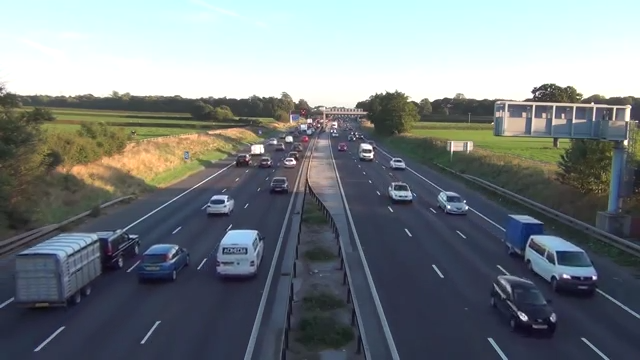car: (486, 268, 560, 338), (80, 222, 147, 274), (132, 238, 196, 287), (199, 190, 241, 224), (432, 186, 473, 217), (382, 178, 416, 205), (265, 172, 292, 198), (385, 151, 409, 171), (233, 150, 251, 167), (279, 154, 299, 168), (257, 154, 273, 167), (335, 140, 349, 153)
van: (516, 227, 605, 298), (213, 225, 268, 281), (353, 137, 375, 164), (244, 140, 269, 158)
